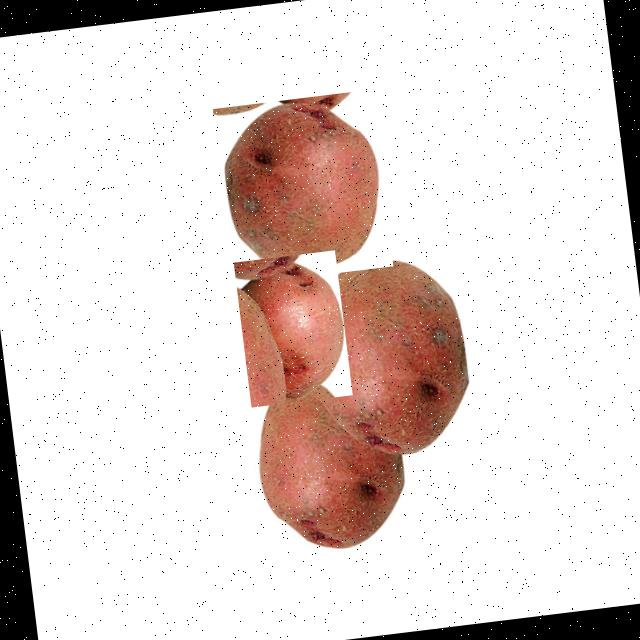Defected potato: (296, 247, 482, 469), (240, 352, 422, 564), (211, 89, 392, 285), (232, 250, 352, 407)
